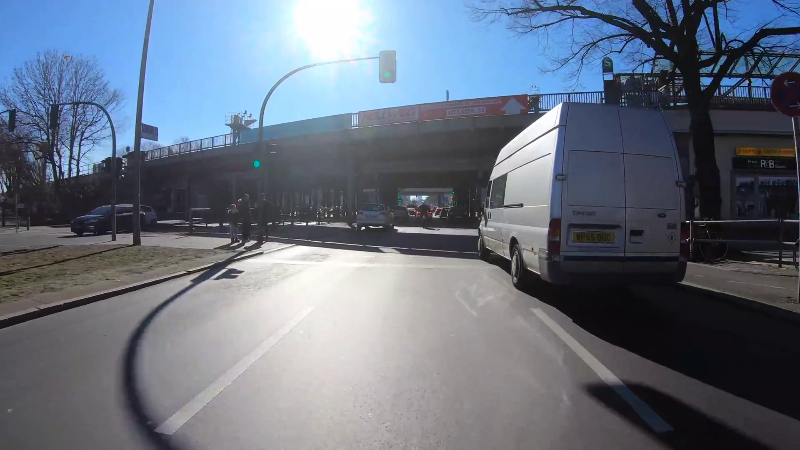Plate: (573, 230, 615, 244)
